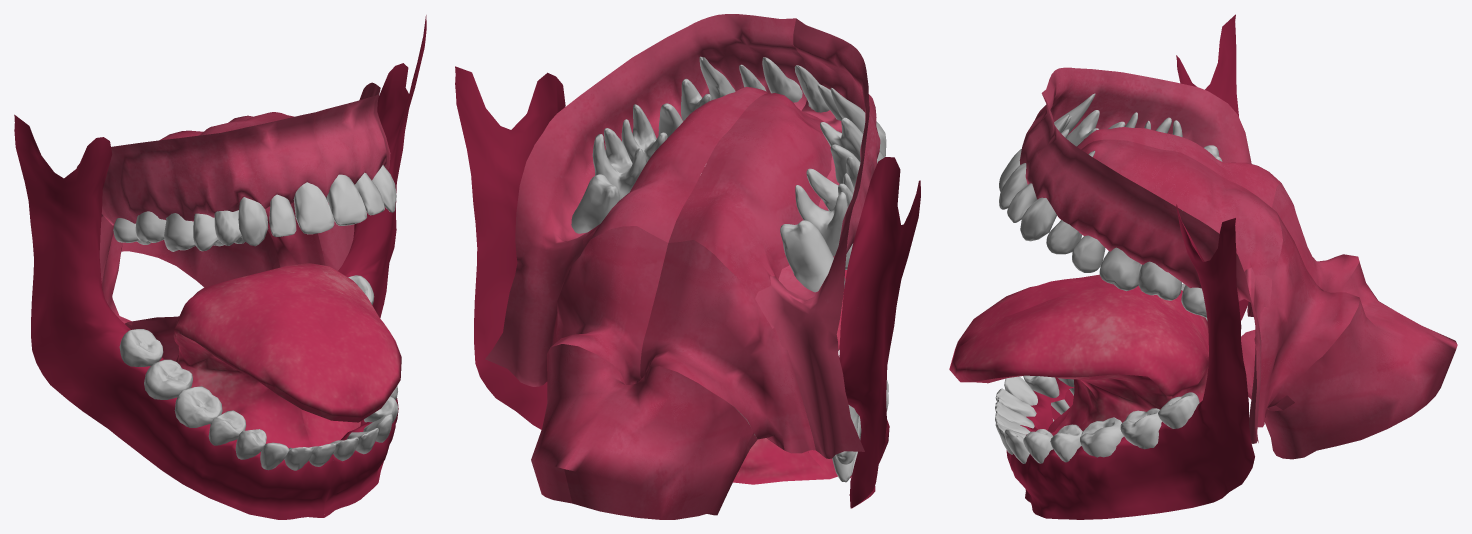
File: tooth.glb
3 renders of one model, left to right at view 1: azimuth 30°, elevation 25°; view 2: azimuth 150°, elevation 25°; view 3: azimuth 270°, elevation 25°, orthographic. The views are drawn at different scales.
Parts seen in each view (by area): view 1: Hard_Plate_L, Lower_Jaw_L; view 2: Hard_Plate_L, Lower_Jaw_L; view 3: Hard_Plate_L, Lower_Jaw_L.
Boxes of the visible parts, left/top/right/bottom form: Hard_Plate_L: left=14, top=82, right=401, bottom=519; Lower_Jaw_L: left=324, top=15, right=426, bottom=517; Hard_Plate_L: left=485, top=14, right=920, bottom=519; Lower_Jaw_L: left=455, top=66, right=565, bottom=429; Hard_Plate_L: left=949, top=14, right=1457, bottom=463; Lower_Jaw_L: left=1006, top=204, right=1254, bottom=519.
Bounding box in the file's own units: 0.00435 × 0.00403 × 0.00459.
1 material, 1 textured.
